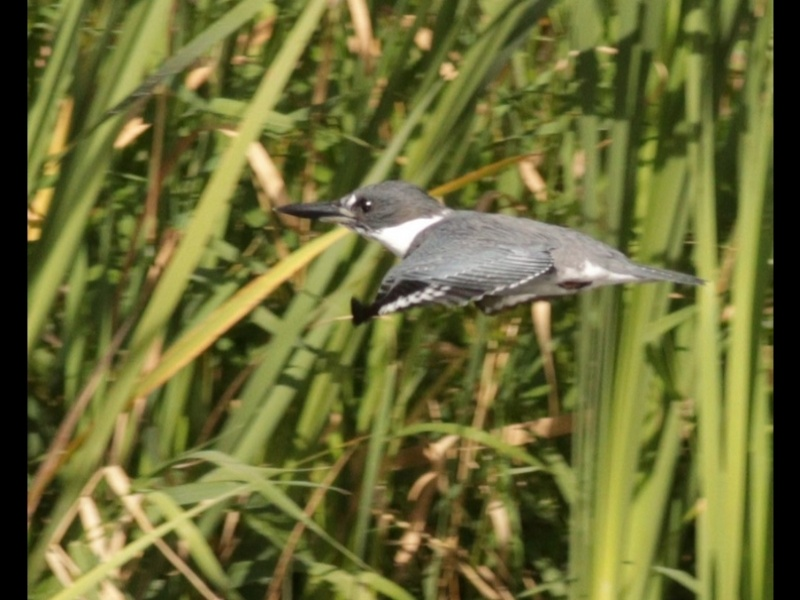kingfisher: (273, 179, 707, 323)
